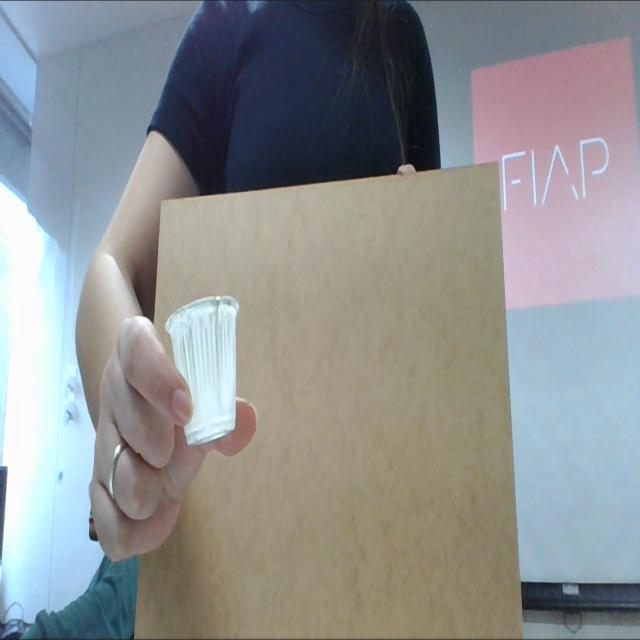planta: (165, 294, 241, 446)
